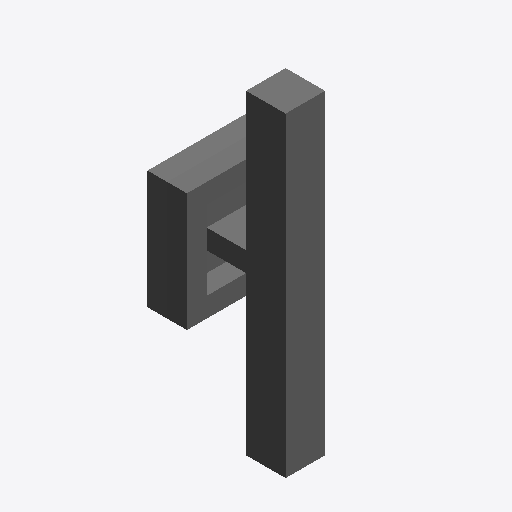
A Minecraft block model of 7 cuboids, rendered isometrically (azimuth 45°, elevation 35.3°) with the resource pack's own textures.
Parts seen in each view (by area): pilone, element 2, plate, element 5, element 4, element 6.
Part boxes in pixels (left/top/right/bottom): pilone: left=246, top=68, right=324, bottom=477; element 2: left=167, top=171, right=206, bottom=329; plate: left=147, top=114, right=245, bottom=317; element 5: left=187, top=137, right=245, bottom=203; element 4: left=207, top=205, right=245, bottom=272; element 6: left=207, top=262, right=245, bottom=317.
Bounding box in the file's own units: 6 × 16 × 5.